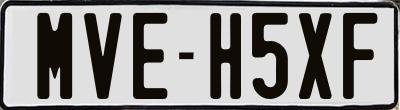5: (252, 10, 290, 96)
E: (130, 12, 168, 98)
F: (343, 13, 377, 105)
H: (210, 11, 241, 97)
M: (35, 11, 75, 98)
V: (83, 10, 125, 101)
X: (298, 11, 334, 102)
